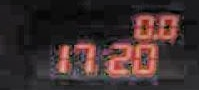-: (150, 32, 155, 38)
0: (132, 42, 153, 73), (132, 13, 152, 38), (157, 13, 173, 37)
1: (59, 42, 69, 73)
2: (107, 41, 130, 73)
7: (72, 42, 92, 72)
